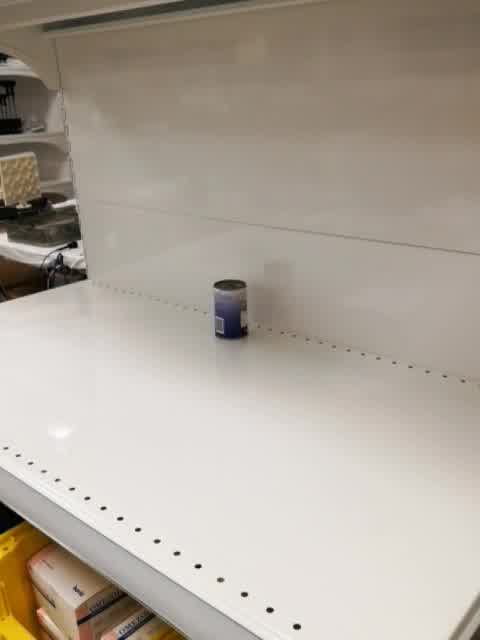sardine: (212, 279, 251, 340)
